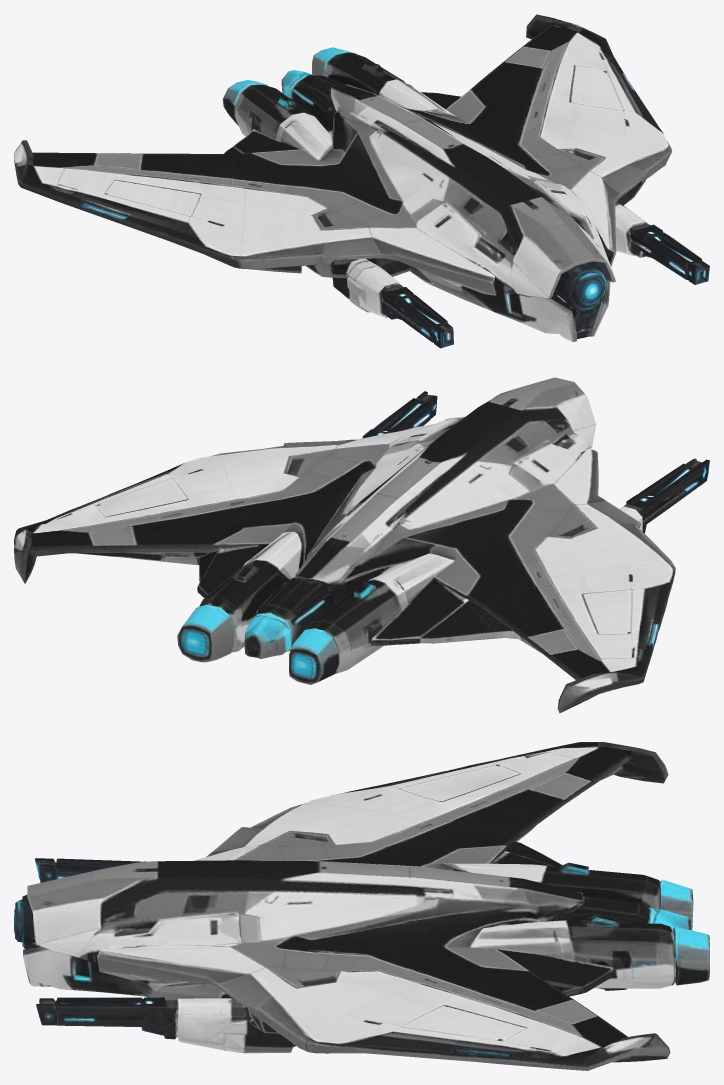
File: voyager-europa-l05-laser.glb
3 views of the same model, one above another, from view 1: azimuth 30°, elevation 25°; view 2: azimuth 150°, elevation 25°; view 3: azimuth 270°, elevation 25° (orthographic). The views are drawn at different scales.
Parts seen in each view (by area): view 1: Drone; view 2: Drone; view 3: Drone.
Part boxes in pixels (<box>): Drone: <box>14,14,709,348</box>; Drone: <box>14,377,709,713</box>; Drone: <box>14,742,709,1070</box>.
Bounding box in the file's own units: 1.61 × 0.2966 × 1.46.
Materials: 1 (1 with a texture image).
